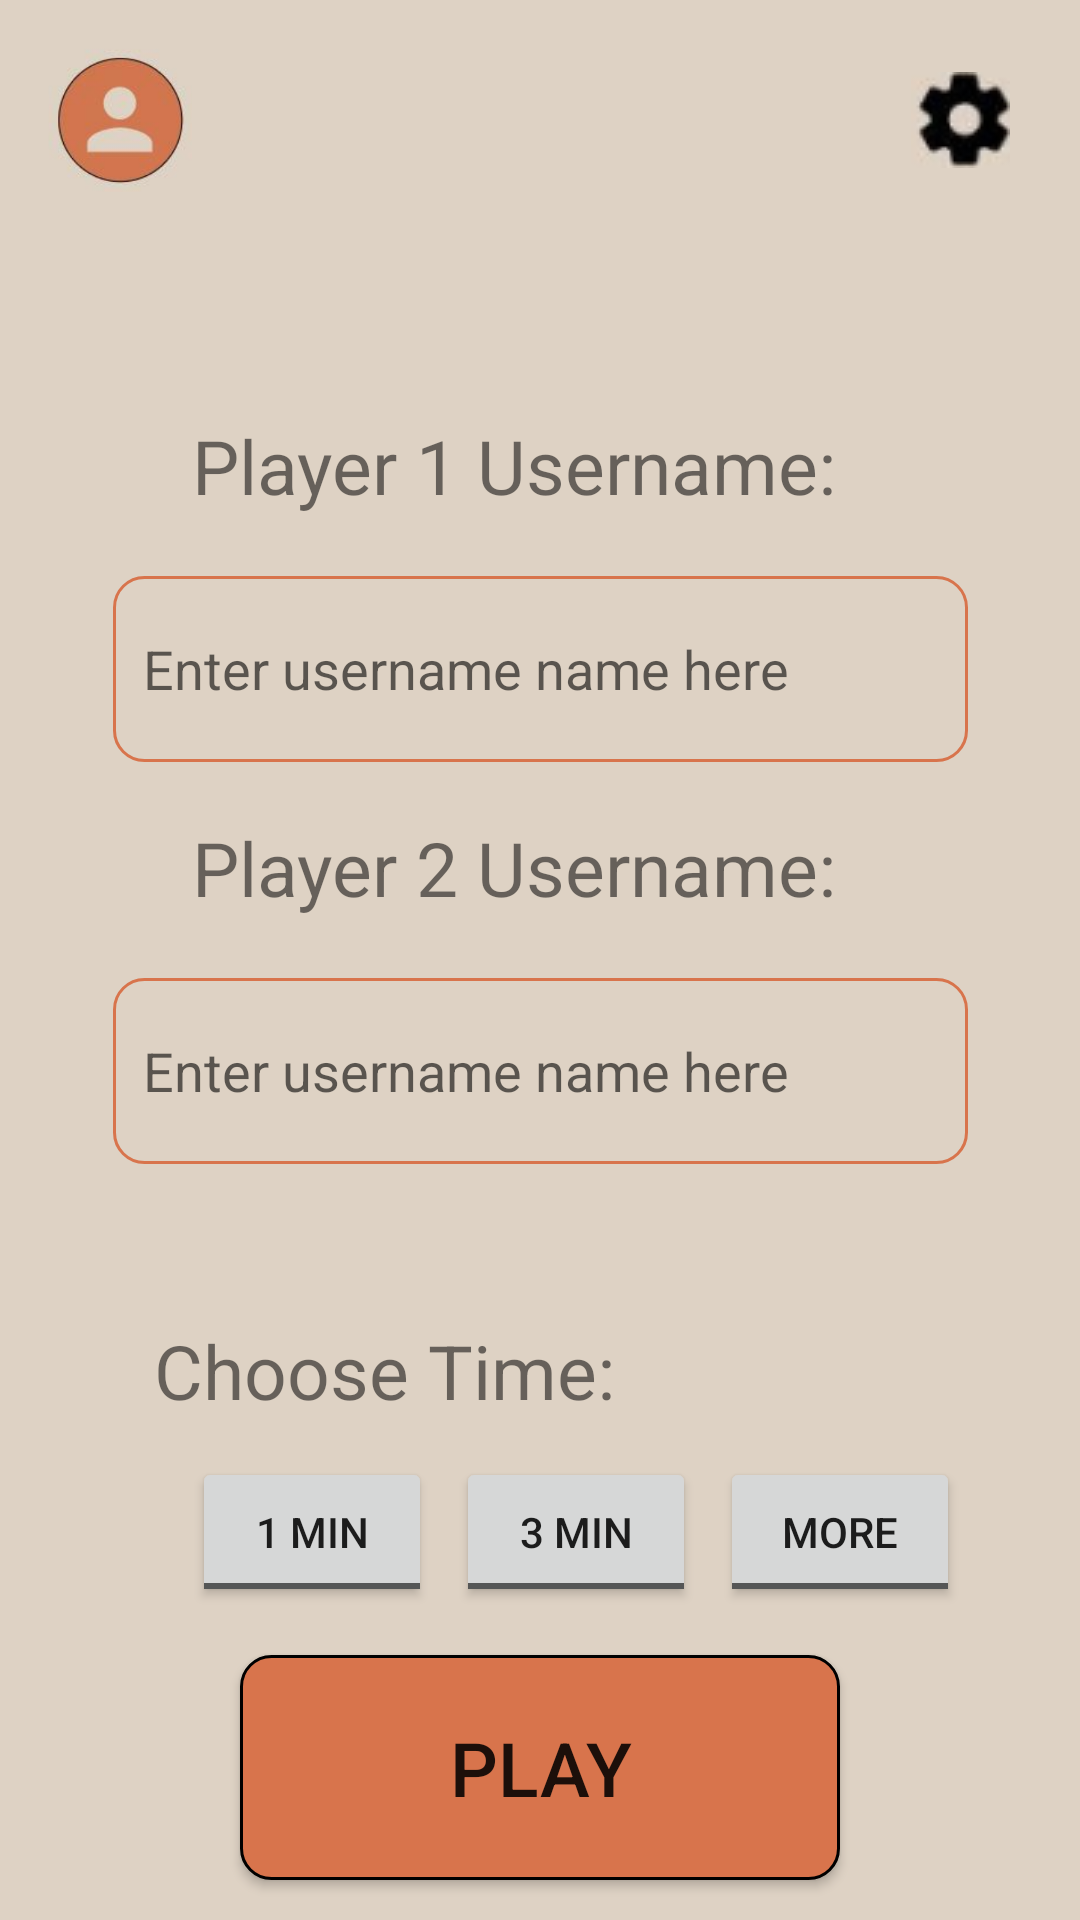

Icons on this 1080px x 1920px Android screen, each with the point to tap as (x,y):
Profile Button: (121,120)
Settings Button: (964,120)
